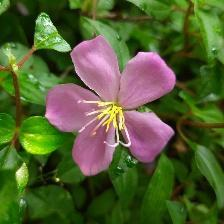malabar melastome: (44, 34, 179, 179)
